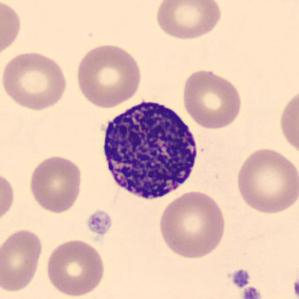Basophil: (94, 92, 202, 206)
Platelets: (85, 208, 113, 237), (229, 268, 252, 289), (240, 285, 263, 299), (290, 275, 299, 299)
RBC: (156, 188, 228, 260), (73, 42, 144, 110), (234, 145, 298, 216), (0, 49, 70, 112), (180, 67, 244, 131), (43, 237, 107, 297), (26, 153, 84, 215), (0, 226, 44, 294), (153, 0, 224, 41), (277, 87, 298, 158), (0, 0, 23, 59), (0, 168, 17, 227)
